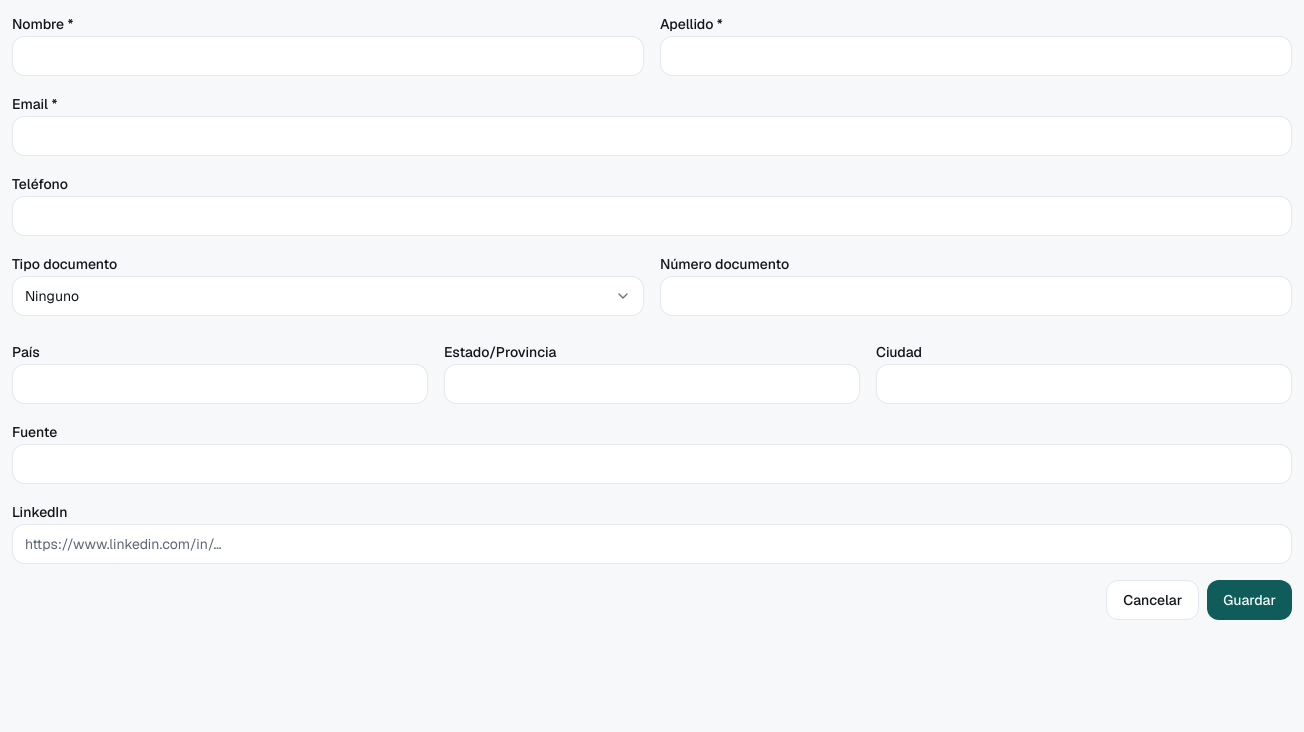
Test case: CandidateForm document type › renders a select of catalog labels, not a free-text input
Click the dropdown with id "c-doc-type" at (52, 296), box x1=12 y1=276 x2=644 y2=316
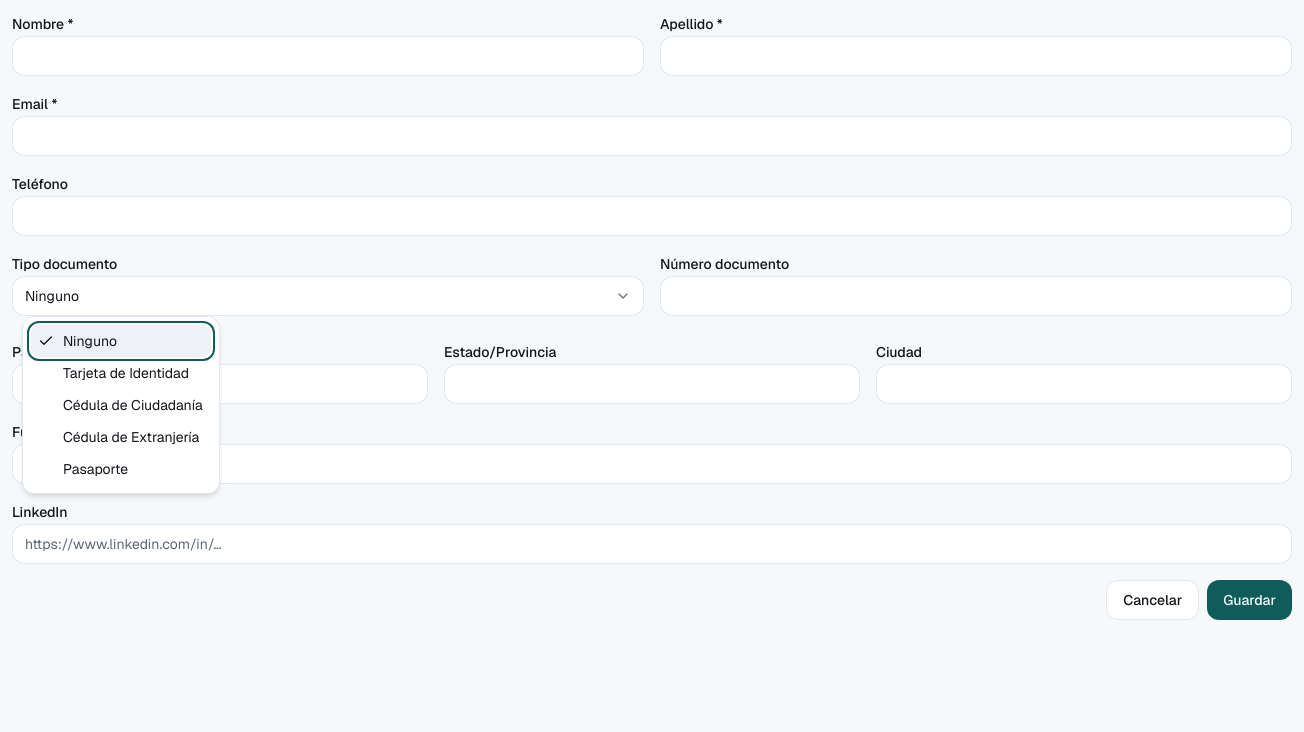
Expected: the option "Cédula de Ciudadanía" is shown, x1=63 y1=396 x2=203 y2=414
Expected: the option "Tarjeta de Identidad" is shown, x1=63 y1=364 x2=189 y2=382
Expected: the option "Cédula de Extranjería" is shown, x1=63 y1=428 x2=199 y2=446
